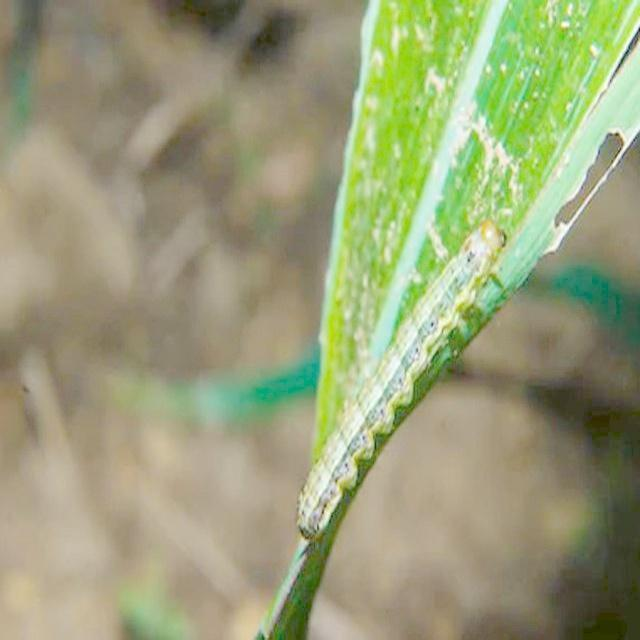gusano_cogollero: (294, 220, 508, 533)
